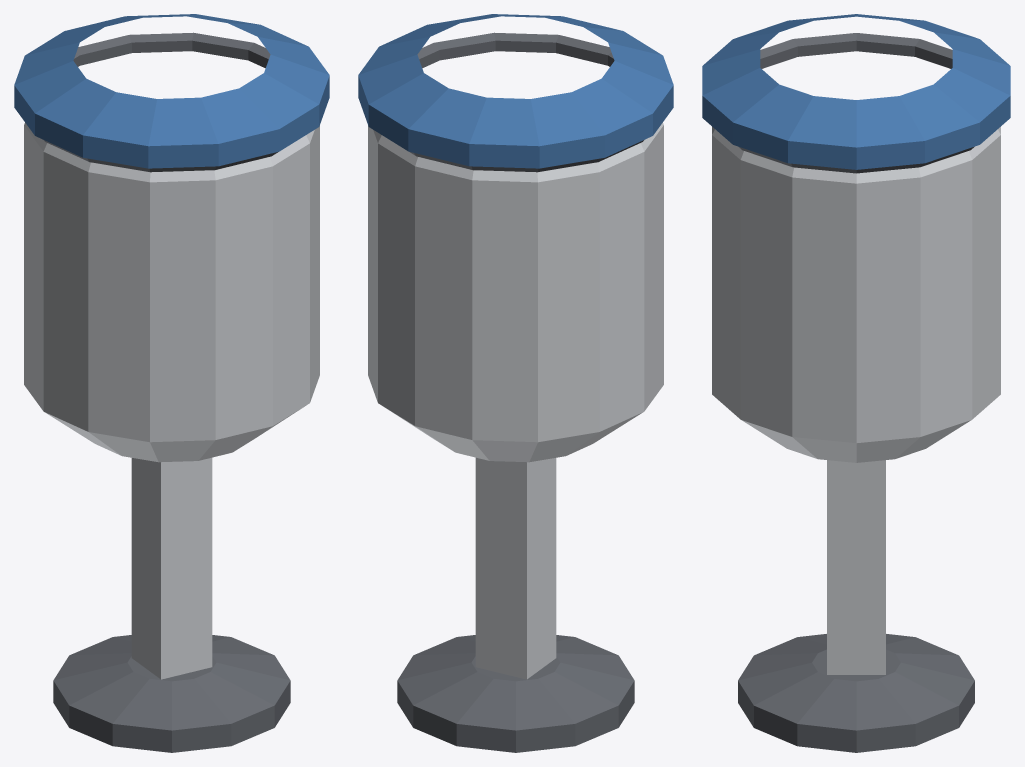
Rendered from modern-rail-and-metro-network-waste-bin-57f44ea1.glb.
3 views of the same model, side by side, from view 1: azimuth 30°, elevation 25°; view 2: azimuth 150°, elevation 25°; view 3: azimuth 270°, elevation 25° (orthographic).
Visible parts, largest first — view 1: waste-bin; view 2: waste-bin; view 3: waste-bin.
Boxes of the visible parts, x1,y1,x2,y2 form: waste-bin: (14, 14, 329, 752); waste-bin: (358, 14, 673, 752); waste-bin: (702, 14, 1010, 752).
Size of the model in its own units: 0.64 by 1.44 by 0.624.
